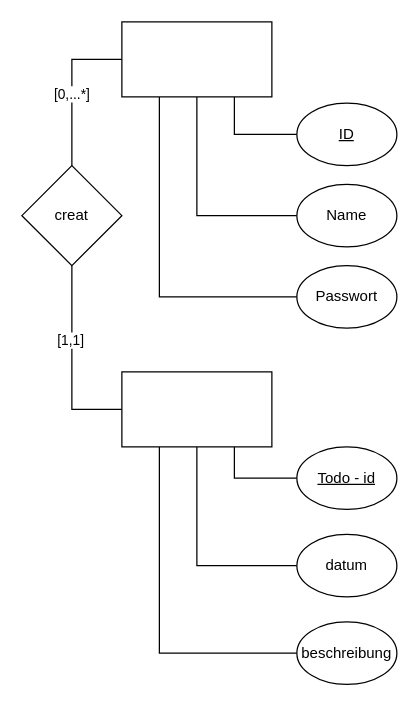
The diagram is 419 pixels wide and 706 high, and some of its shapes have lost their labels. The shapes that lost their labels are listed below. From the top down, each one's box as (x1, y1, x2, y2) in pixels, then its label:
(121, 21, 272, 97): User
(121, 371, 272, 447): Todo
